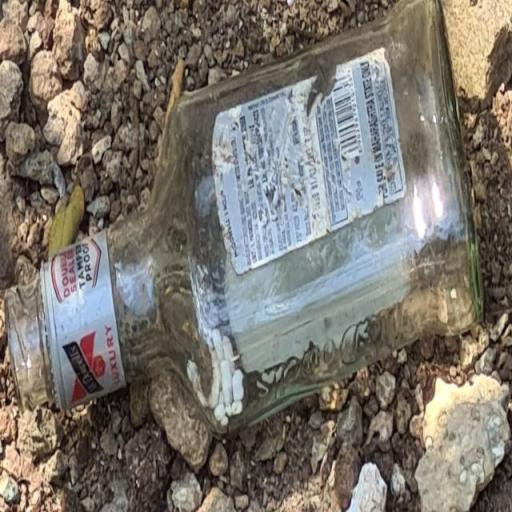glass: (0, 0, 490, 461)
